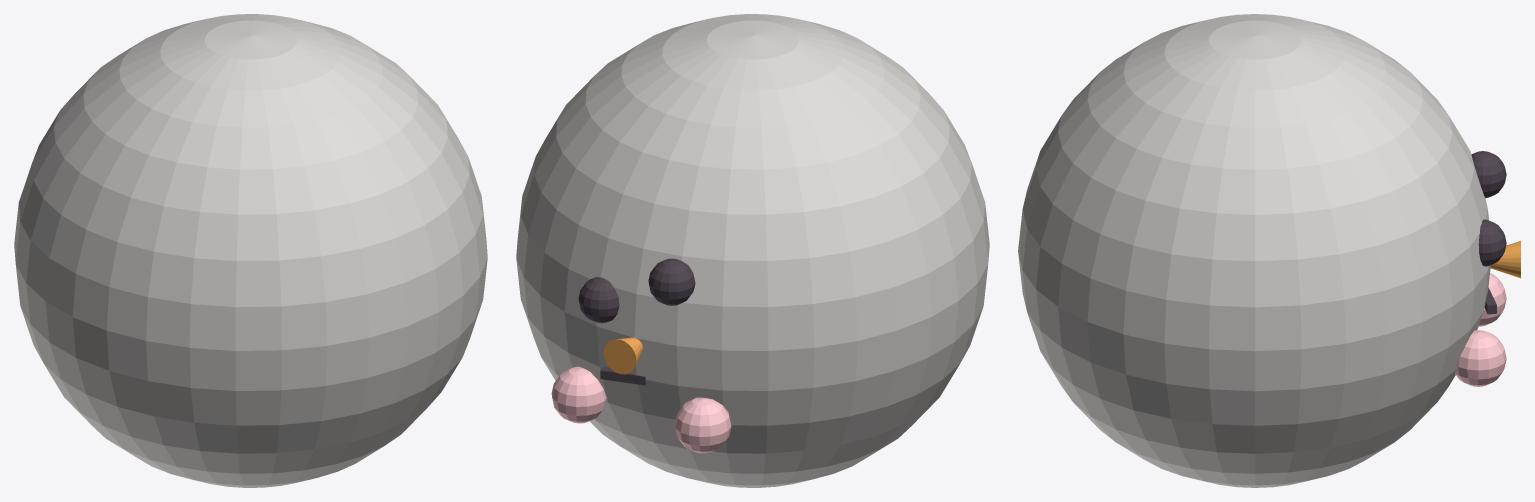
Rendered from snowball_derpy.glb.
3 renders of one model, left to right at view 1: azimuth 30°, elevation 25°; view 2: azimuth 150°, elevation 25°; view 3: azimuth 270°, elevation 25°, orthographic.
Parts seen in each view (by area): view 1: Sphere; view 2: Sphere, Sphere.003, Sphere.004, Sphere.001, Sphere.002, Cone; view 3: Sphere, Sphere.004, Sphere.001, Sphere.002, Cone, Sphere.003.
Part boxes in pixels (x1,y1,x2,y2): Sphere: (14,14,487,487); Sphere: (516,14,989,487); Sphere.003: (675,397,731,453); Sphere.004: (551,366,606,423); Sphere.001: (648,258,695,305); Sphere.002: (578,277,619,323); Cone: (603,337,642,374); Sphere: (1018,14,1490,487); Sphere.004: (1455,330,1506,386); Sphere.001: (1471,151,1506,198); Sphere.002: (1478,219,1506,266); Cone: (1490,241,1520,278); Sphere.003: (1478,273,1506,326).
Size of the model in its own units: 1 by 1 by 1.06.
